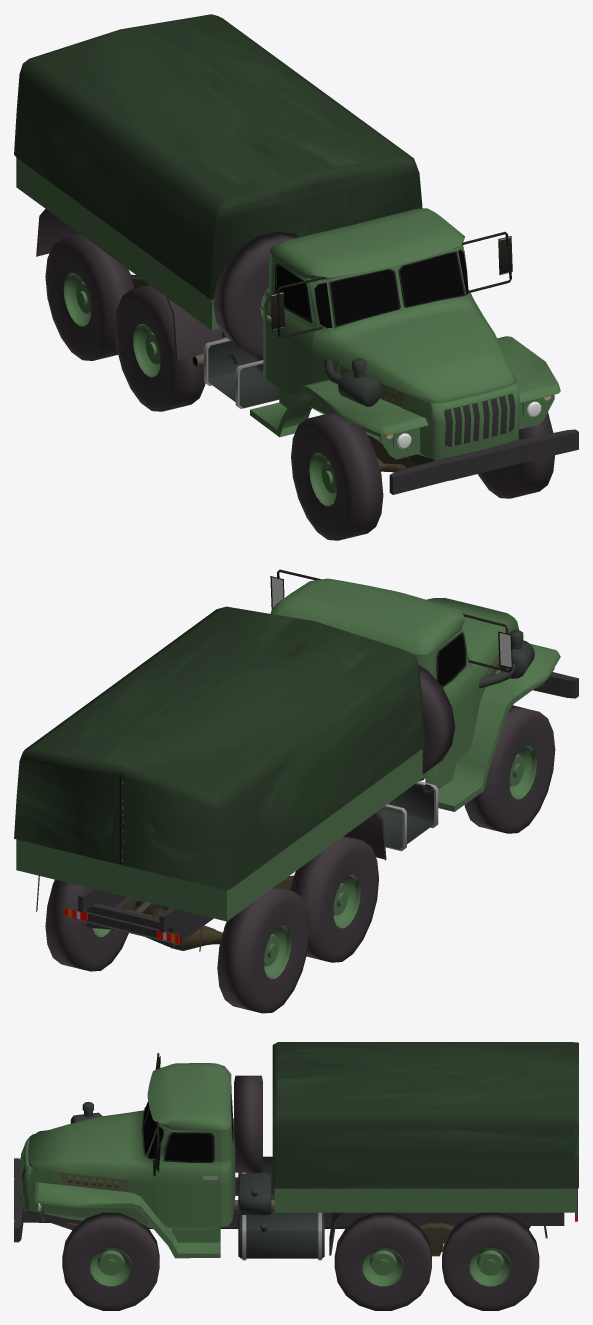
The model's file is ural4320-military.glb.
3 views of the same model, one above another, from view 1: azimuth 30°, elevation 25°; view 2: azimuth 150°, elevation 25°; view 3: azimuth 270°, elevation 25° (orthographic). The views are drawn at different scales.
Visible parts, largest first — view 1: Object_4, Object_74; view 2: Object_74, Object_4; view 3: Object_4, Object_74.
Part boxes in pixels (box(x1,y1,x2,y2)): Object_4: box(16, 157, 578, 540); Object_74: box(14, 14, 422, 299); Object_74: box(14, 606, 424, 890); Object_4: box(16, 569, 578, 1013); Object_4: box(14, 1053, 577, 1310); Object_74: box(272, 1042, 578, 1188).
Bounding box in the file's own units: 2.81 × 2.92 × 7.37.
2 materials, 2 textured.
